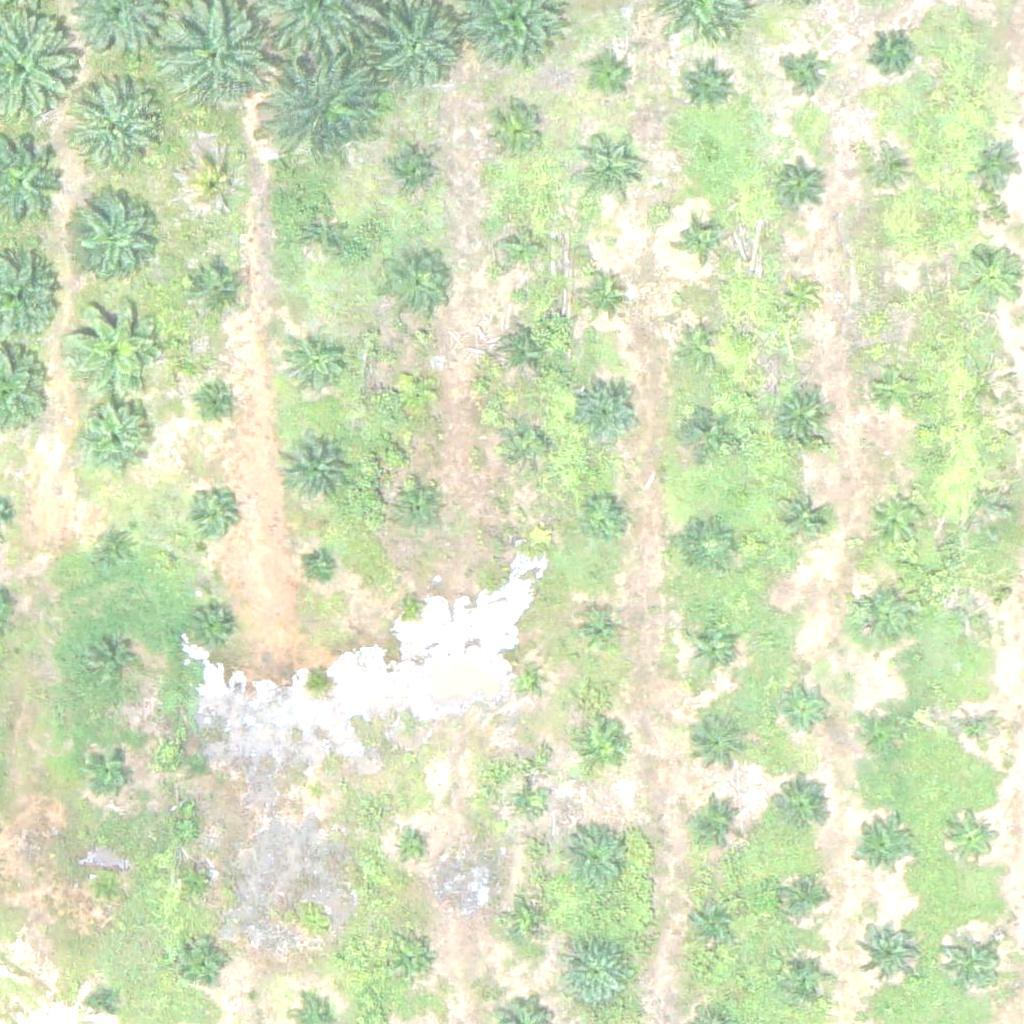Kelapa_Sawit: (263, 45, 388, 171), (163, 3, 276, 116), (64, 294, 164, 395), (77, 88, 165, 177), (71, 395, 159, 483), (373, 6, 461, 94), (71, 184, 158, 272), (556, 819, 631, 895), (560, 933, 635, 1009), (277, 431, 352, 507), (690, 712, 753, 775), (575, 145, 638, 208), (481, 99, 544, 162), (848, 583, 911, 646), (577, 381, 640, 444), (492, 216, 555, 279), (769, 781, 832, 844), (853, 819, 915, 882), (941, 933, 1003, 996), (857, 916, 919, 979), (385, 254, 447, 317), (285, 333, 347, 396), (772, 385, 834, 448), (866, 486, 928, 549), (289, 203, 351, 266), (947, 812, 997, 863), (178, 934, 228, 985), (684, 520, 734, 571), (682, 402, 732, 453), (502, 324, 552, 375), (578, 267, 628, 318), (503, 418, 553, 469), (382, 145, 432, 196), (391, 364, 441, 415), (579, 491, 629, 542), (777, 491, 827, 542), (951, 706, 1001, 757), (863, 704, 913, 755), (781, 681, 831, 732), (689, 623, 739, 674), (192, 262, 242, 312), (682, 60, 732, 110), (578, 725, 628, 775), (776, 158, 826, 208), (972, 137, 1022, 187), (872, 362, 922, 412), (675, 322, 725, 372), (583, 55, 633, 105), (397, 485, 447, 535), (779, 870, 829, 920), (781, 954, 831, 1004), (687, 890, 737, 940), (692, 795, 742, 845), (574, 608, 624, 658), (186, 491, 236, 541), (189, 605, 239, 655), (86, 744, 136, 794), (86, 637, 136, 687), (93, 523, 143, 573), (193, 162, 243, 212), (873, 30, 911, 68), (781, 276, 819, 314), (684, 221, 722, 259), (396, 946, 433, 984), (790, 56, 827, 94), (867, 154, 904, 192), (879, 283, 916, 321), (962, 581, 999, 619), (87, 870, 125, 907), (180, 864, 217, 902), (306, 554, 331, 580), (518, 910, 543, 936), (511, 665, 536, 690), (516, 793, 541, 818), (399, 836, 424, 861), (399, 592, 424, 617), (89, 991, 114, 1016), (207, 390, 232, 415), (305, 781, 330, 806)
